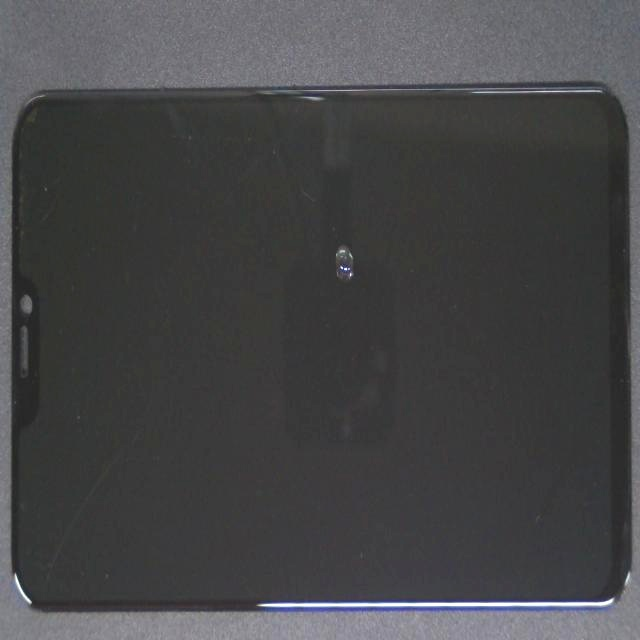oil: (174, 88, 502, 355)
